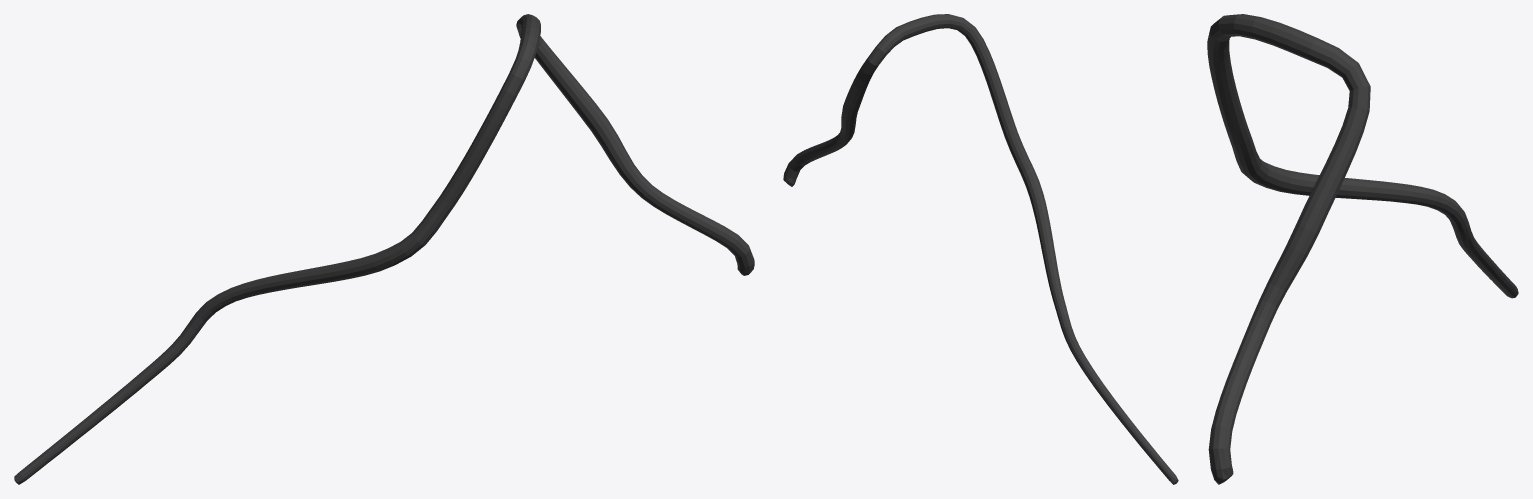
File: Nerve_minor_petrosal_L.glb
The picture shows the model from 3 angles, left to right: view 1: azimuth 30°, elevation 25°; view 2: azimuth 150°, elevation 25°; view 3: azimuth 270°, elevation 25°; orthographic projection. The views are drawn at different scales.
Visible parts, largest first — view 1: Nerve_minor_petrosal_L; view 2: Nerve_minor_petrosal_L; view 3: Nerve_minor_petrosal_L.
Part boxes in pixels (x1,y1,x2,y2): Nerve_minor_petrosal_L: (14, 14, 754, 484); Nerve_minor_petrosal_L: (783, 14, 1178, 484); Nerve_minor_petrosal_L: (1207, 14, 1518, 484).
Bounding box in the file's own units: 4.2 × 2.75 × 1.47.
Materials: 1 (1 with a texture image).
